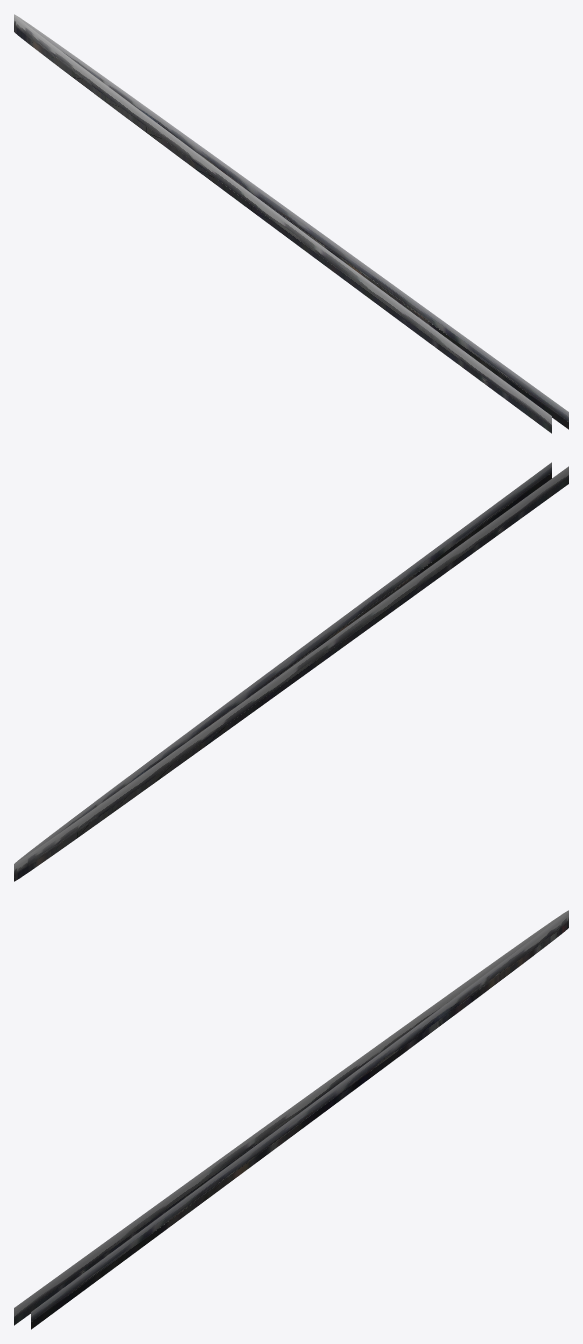
Rendered from skyline.gltf.
3 views of the same model, one above another, from view 1: azimuth 30°, elevation 25°; view 2: azimuth 150°, elevation 25°; view 3: azimuth 330°, elevation 25° (orthographic).
Parts seen in each view (by area): view 1: skyline; view 2: skyline; view 3: skyline.
Boxes of the visible parts, x1,y1,x2,y2 form: skyline: (14,14,568,433); skyline: (14,462,568,881); skyline: (14,910,568,1329).
Size of the model in its own units: 1 by 1 by 56.
1 material, 1 textured.
